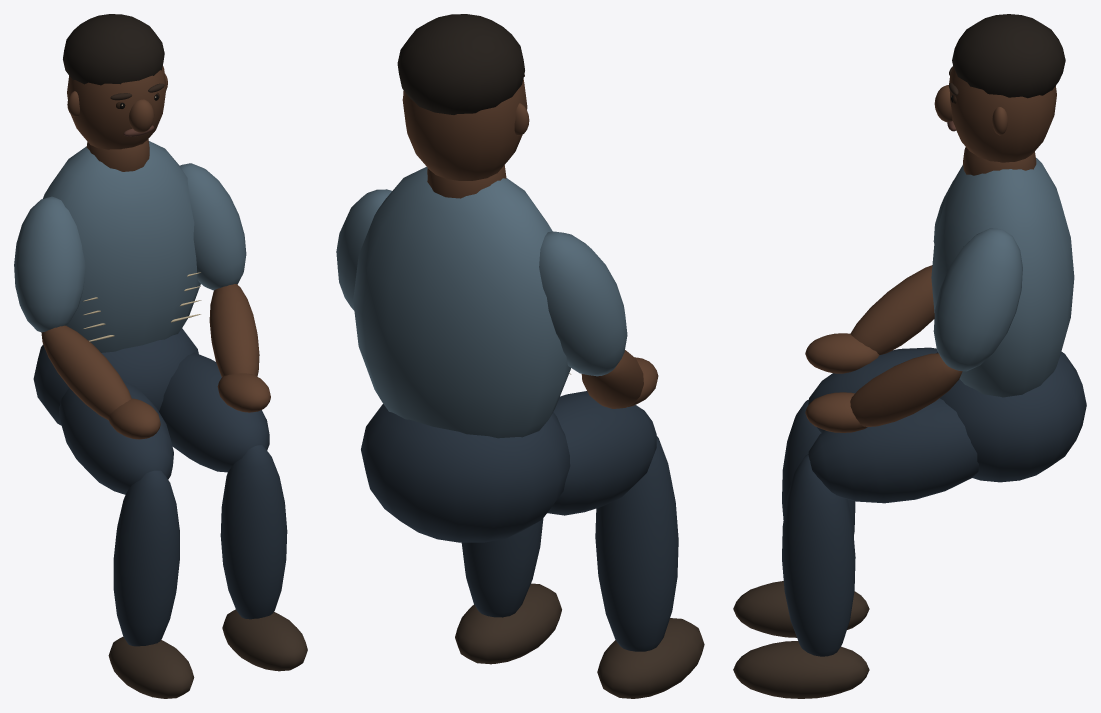
File: resident-0.glb
The picture shows the model from 3 angles, left to right: view 1: azimuth 30°, elevation 25°; view 2: azimuth 150°, elevation 25°; view 3: azimuth 270°, elevation 25°; orthographic projection. The views are drawn at different scales.
Parts seen in each view (by area): view 1: body; view 2: body; view 3: body.
Boxes of the visible parts, left/top/right/bottom form: body: left=14, top=14, right=307, bottom=698; body: left=336, top=14, right=704, bottom=698; body: left=733, top=14, right=1086, bottom=698.
Bounding box in the file's own units: 0.5179 × 1.31 × 0.653.
